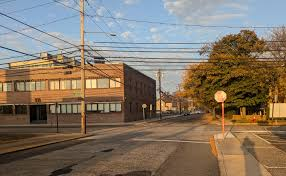stop sign: (214, 90, 227, 102)
